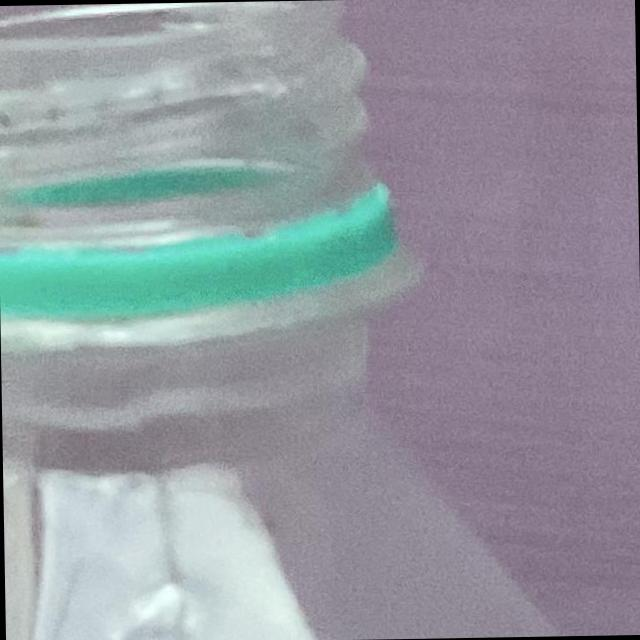open-cap: (0, 0, 409, 325)
